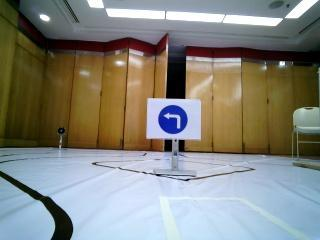left: (149, 100, 197, 139)
